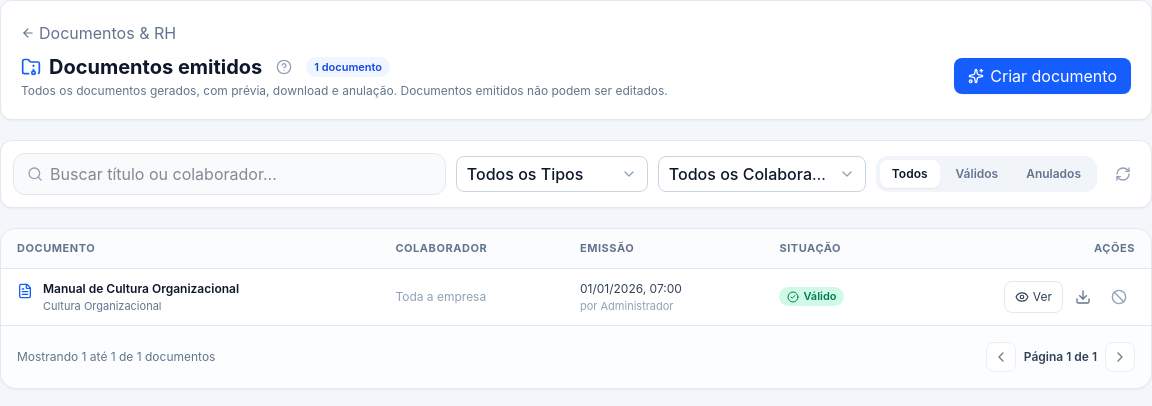
Test: DocumentsArchivePage › renders employee filter and allows clearing active filters
Click the dropdown labelled "Todos os Colaboradores" at (762, 174), box [658,156,866,192]
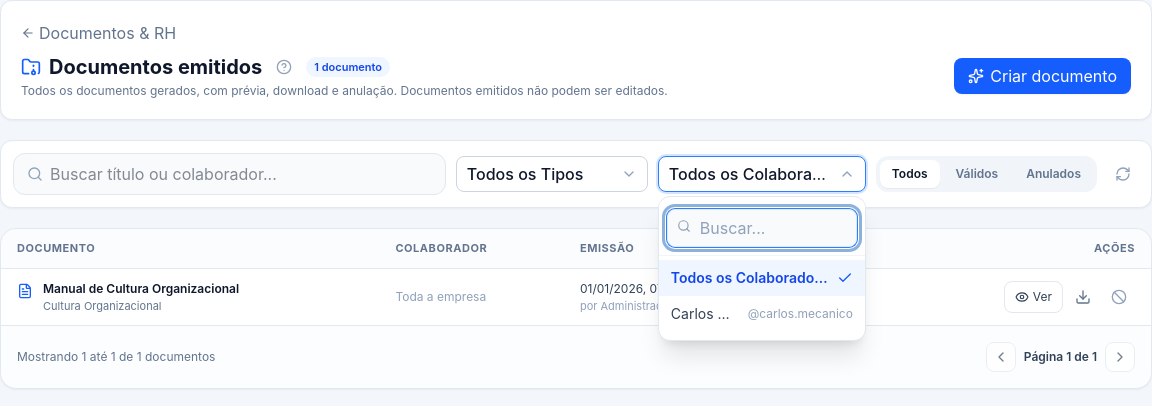
Check: the option "Carlos Mecânico @carlos.mecanico" is shown, box [671,305,853,322]
Type "Manual" into the field with placeholder "Buscar título ou colaborador..." at (229, 174), box [13,153,446,195]
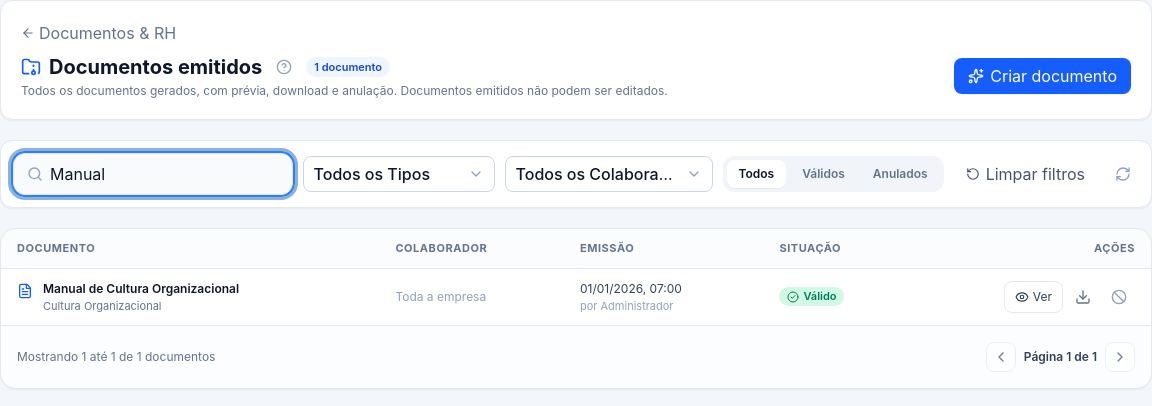
Check: the button "Limpar filtros" is shown
Click the button "Limpar filtros" at (1025, 174), box [954,156,1097,192]
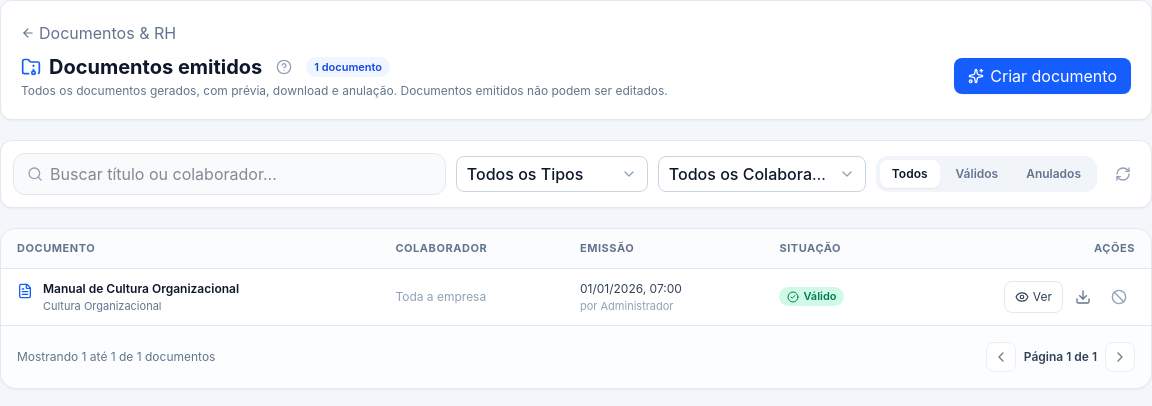
Check: the field with placeholder "Buscar título ou colaborador..." is empty, box [13,153,446,195]
